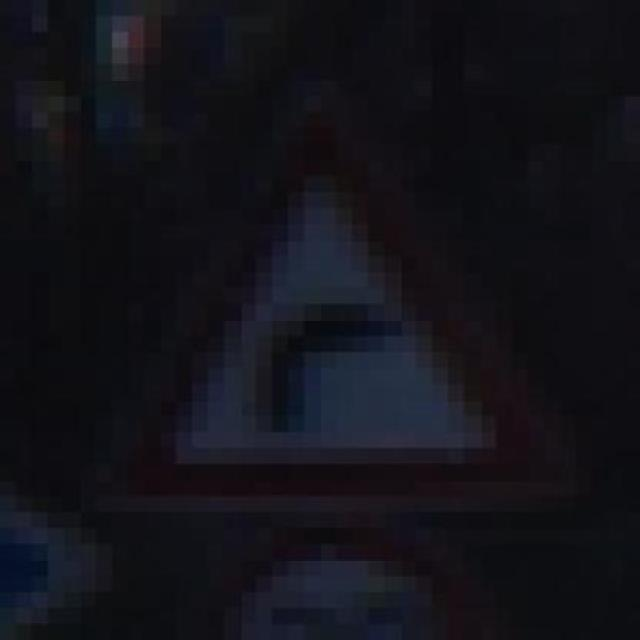Dangerous Rright Curve Ahead: (80, 80, 560, 545)
